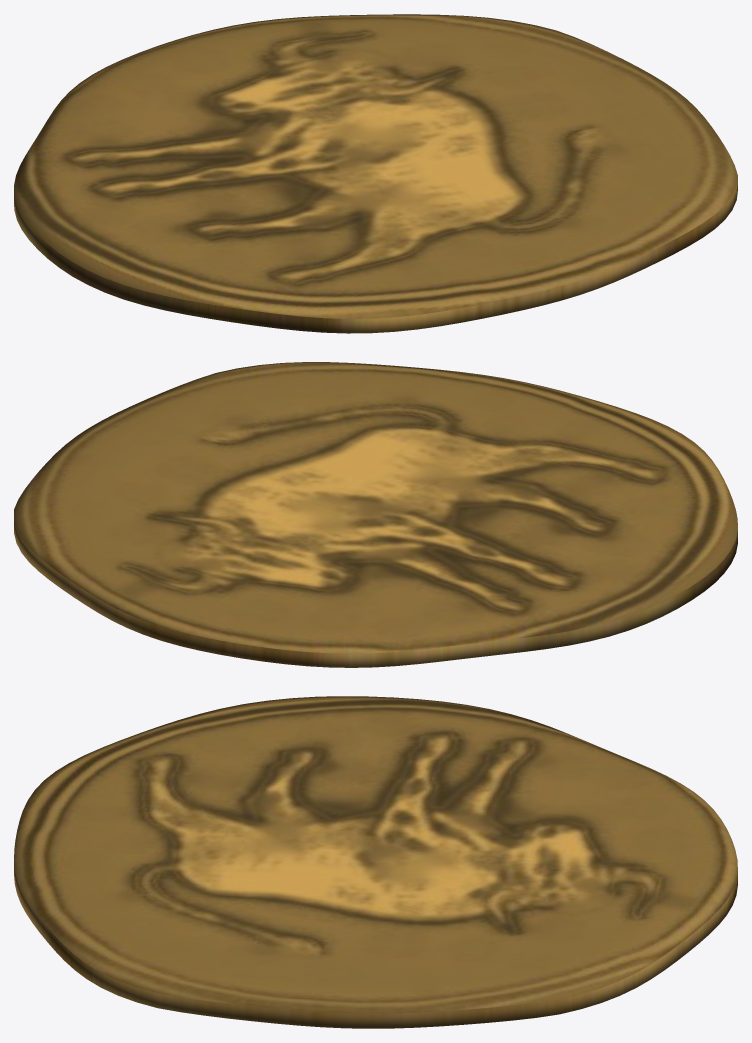
File: zodiac_02.glb
The picture shows the model from 3 angles, top to bottom: view 1: azimuth 30°, elevation 25°; view 2: azimuth 150°, elevation 25°; view 3: azimuth 270°, elevation 25°; orthographic projection. The views are drawn at different scales.
Parts seen in each view (by area): view 1: zodiac_02; view 2: zodiac_02; view 3: zodiac_02.
Boxes of the visible parts, left/top/right/bottom form: zodiac_02: left=14, top=14, right=737, bottom=333; zodiac_02: left=14, top=362, right=737, bottom=667; zodiac_02: left=14, top=696, right=737, bottom=1028.
Size of the model in its own units: 0.9637 by 0.0386 by 0.9284.
Materials: 1 (1 with a texture image).
